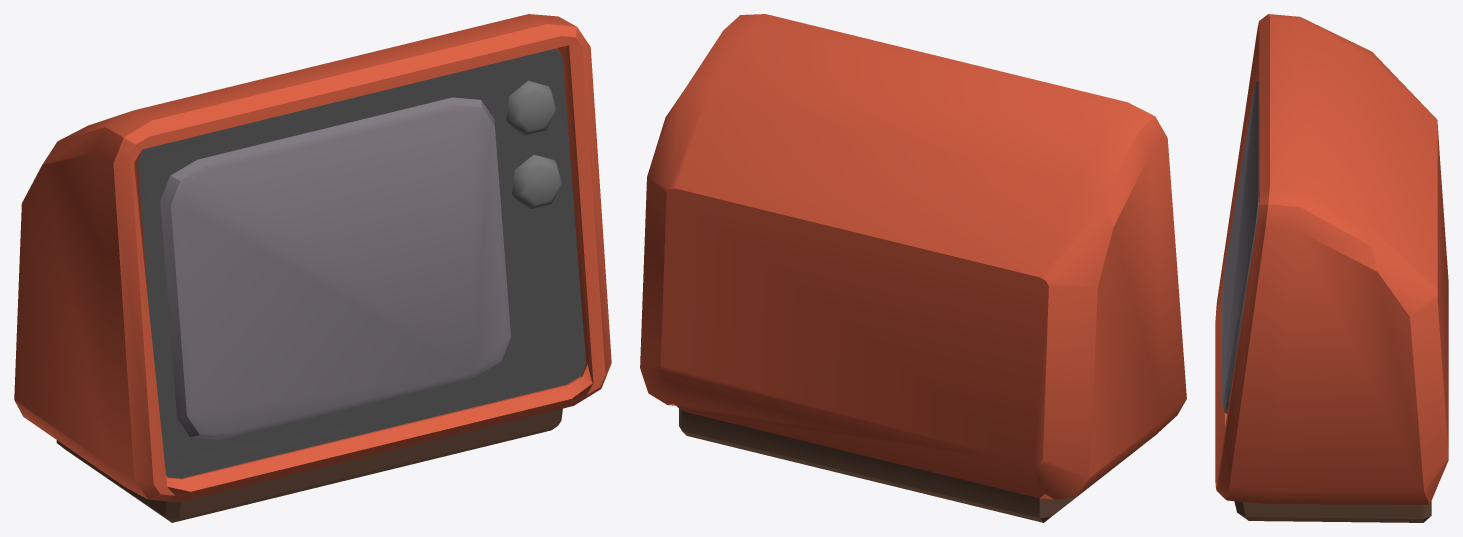
Rendered from Monitor.fbx.
3 views of the same model, side by side, from view 1: azimuth 30°, elevation 25°; view 2: azimuth 150°, elevation 25°; view 3: azimuth 270°, elevation 25° (orthographic). The views are drawn at different scales.
Visible parts, largest first — view 1: Cube.373, Circle.028, Circle.027; view 2: Cube.373; view 3: Cube.373.
Part boxes in pixels (bbox=[...]): Cube.373: bbox=[14, 14, 611, 522]; Circle.028: bbox=[512, 154, 562, 209]; Circle.027: bbox=[506, 80, 556, 135]; Cube.373: bbox=[640, 14, 1186, 522]; Cube.373: bbox=[1215, 14, 1448, 522].
Size of the model in its own units: 2492 by 1189 by 1911.
